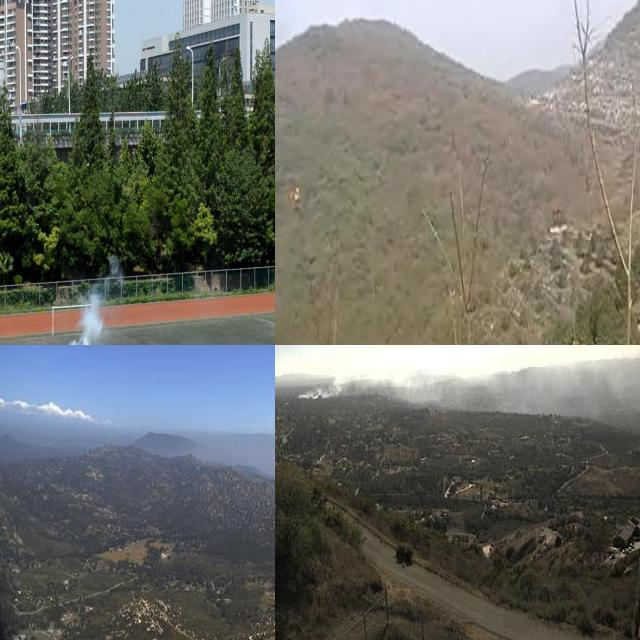smoke: (295, 345, 546, 408), (52, 285, 119, 345)
